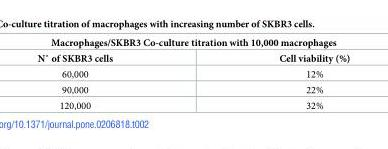table: (36, 37, 349, 110)
table column: (36, 37, 195, 110), (195, 37, 349, 110)
table column header: (36, 37, 349, 65)
table row: (36, 65, 349, 81), (36, 81, 349, 97), (36, 50, 349, 65), (36, 37, 349, 50), (36, 97, 349, 110)
table spanning cell: (36, 37, 349, 50)
